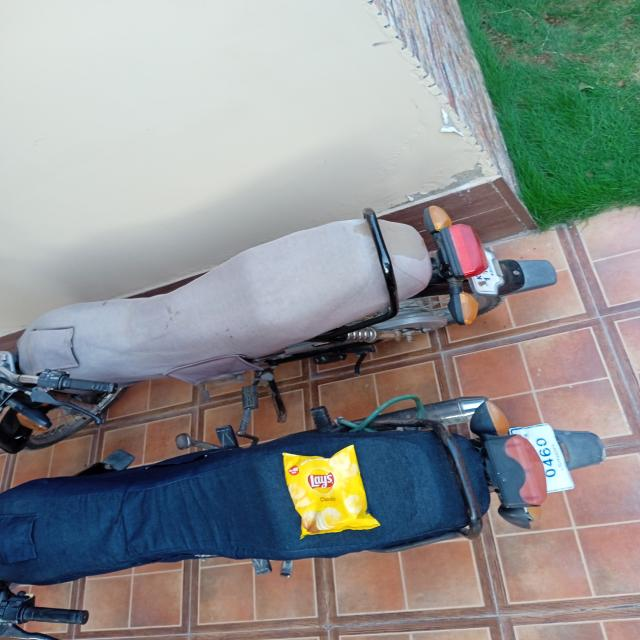Plastic: (277, 445, 383, 537)
